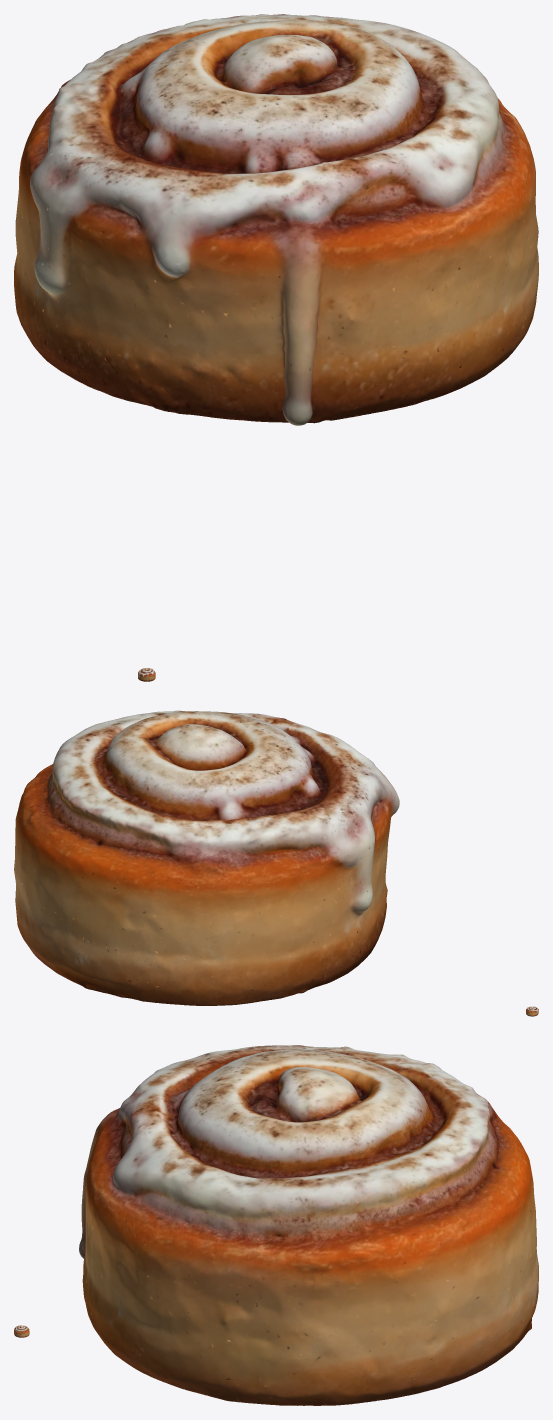
The model's file is cinnamonbun (1).fbx.
3 renders of one model, top to bottom at view 1: azimuth 30°, elevation 25°; view 2: azimuth 150°, elevation 25°; view 3: azimuth 270°, elevation 25°, orthographic. The views are drawn at different scales.
Visible parts, largest first — view 1: food; view 2: food; view 3: food.
Part boxes in pixels (left/top/right/bottom): food: left=14, top=14, right=538, bottom=425; food: left=14, top=710, right=399, bottom=1005; food: left=79, top=1045, right=538, bottom=1405.
Bounding box in the file's own units: 318 × 255 × 313.
